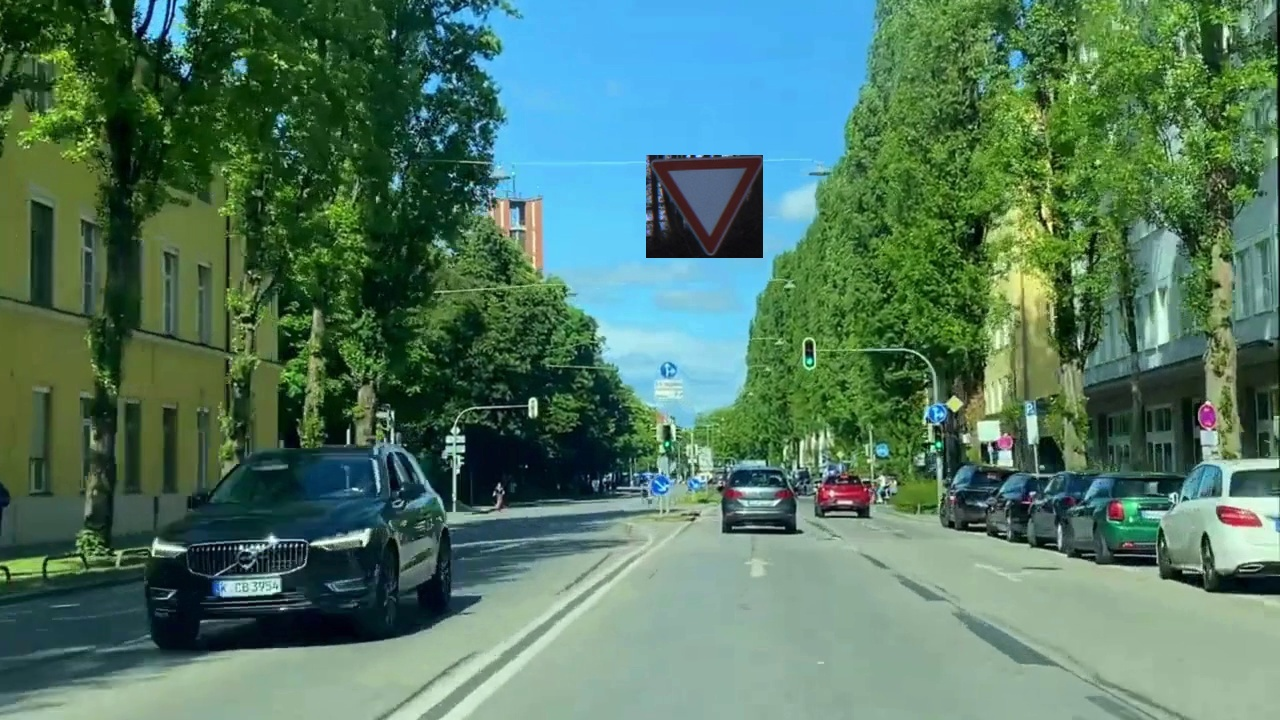Yield: (646, 155, 763, 258)
